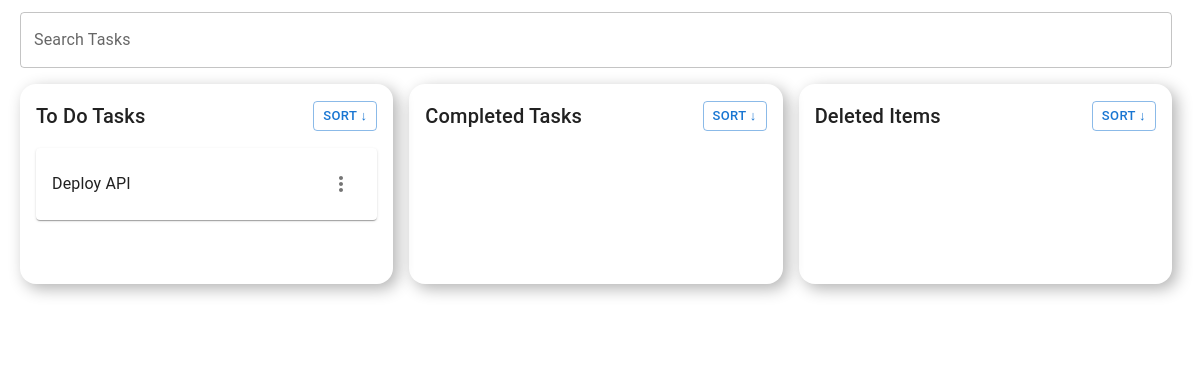
Test: TaskManager › should open the dropdown menu when clicking task title
// Simulate a click on the task title to open the dropdown menu
Click the text with test id "task-title-3": (91, 184) [52,172,131,196]
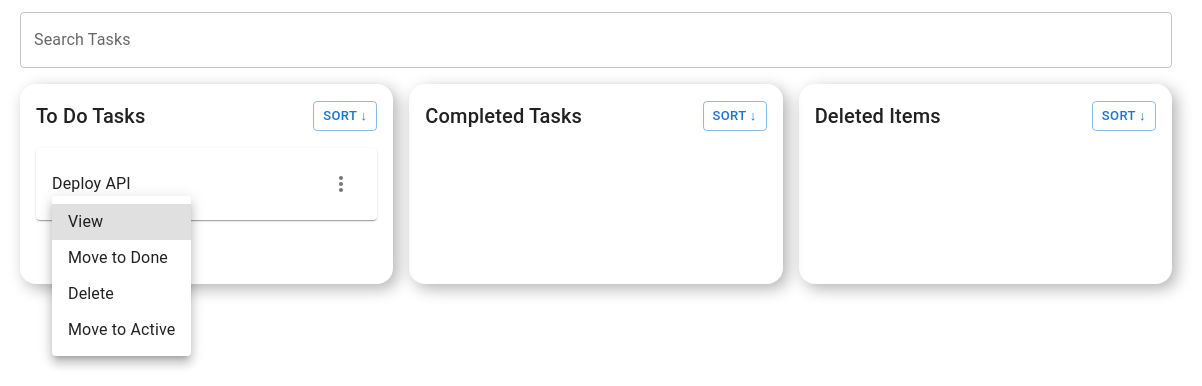
Now the menu item "View" is shown, box [52,204,191,240]
